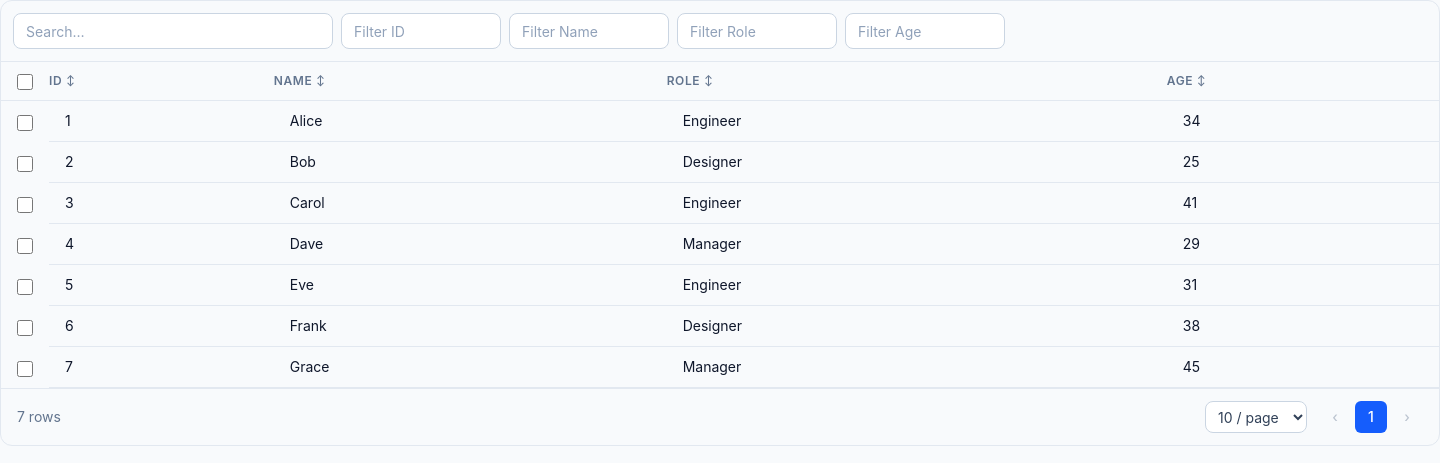
Test: DataTable › filtering › filters by the global search
Type "carol" into the search field named "Search Users" at (173, 31), box [13,13,333,49]
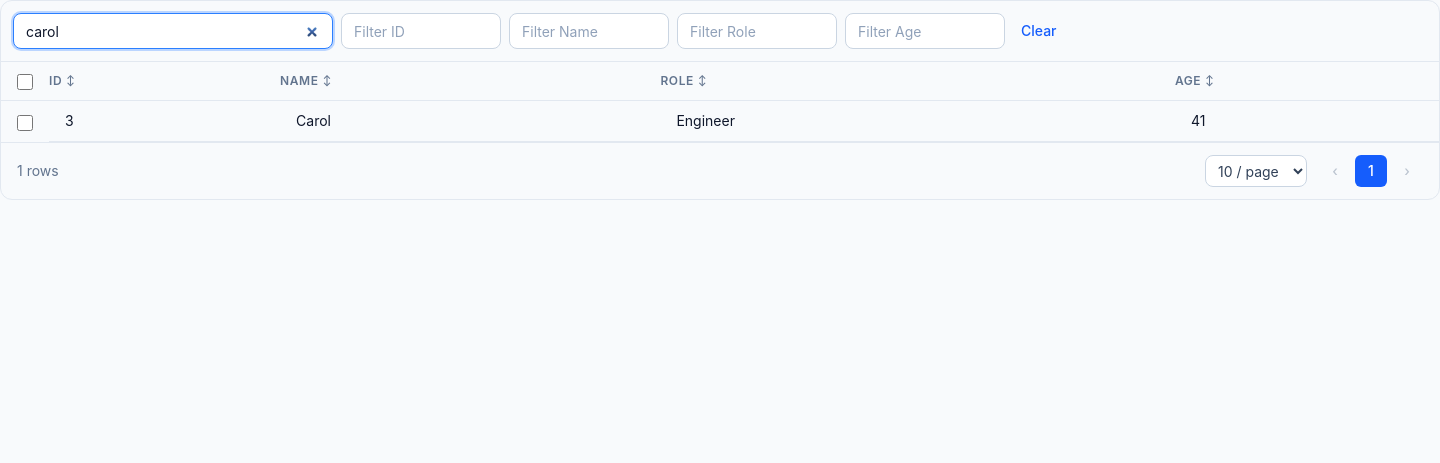
expect the cell "Carol" is shown: met, box [280,101,660,142]
expect the cell "Alice" is gone: met
